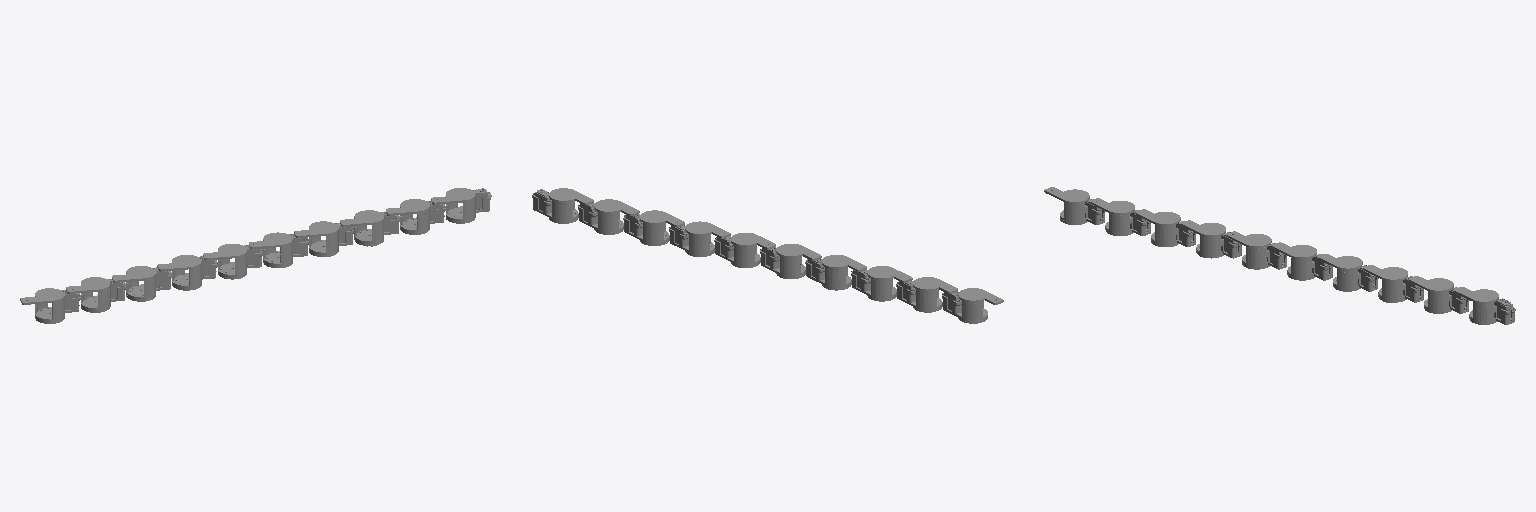
The robot description file, URDF, robot "cobraplacalateral":
<?xml version="1.0" encoding="utf-8"?>
<!-- This URDF was automatically created by SolidWorks to URDF Exporter! Originally created by [author] ([email redacted]) 
     Commit Version: 1.6.0-4-g7f85cfe  Build Version: 1.6.7995.38578
     For more information, please see http://wiki.ros.org/sw_urdf_exporter -->
<!-- 
  Modificações foram feitas nessa descrição a fim de simular o robô no ambiente de simulação Gazebo
  Autor: [author]
  email: [email redacted]
-->
<robot
  name="cobraplacalateral">
  <gazebo>
    <plugin name="gazebo_ros_control" filename="libgazebo_ros_control.so">
      <robotNamespace>/cobraplacalateral</robotNamespace>
    </plugin>
  </gazebo>
  <link name = "dummy"/>
  <link
    name="modulo1">
    <inertial>
      <origin
        xyz="-0.19548 -0.0079371 -0.092787"
        rpy="0 0 0" />
      <mass
        value="0.062449" />
      <inertia
        ixx="4.2331E-05"
        ixy="8.2349E-07"
        ixz="-3.8461E-06"
        iyy="9.0357E-05"
        iyz="-9.8697E-08"
        izz="7.2959E-05" />
    </inertial>
    <visual>
      <origin
        xyz="0 0 0"
        rpy="0 0 0" />
      <geometry>
        <mesh
          filename="package://cobraplacalateral/meshes/base_link.STL" />
      </geometry>
      <material
        name="">
        <color
          rgba="0.62745 0.62745 0.62745 1" />
      </material>
    </visual>
    <collision>
      <origin
        xyz="0 0 0"
        rpy="0 0 0" />
      <geometry>
        <mesh
          filename="package://cobraplacalateral/meshes/base_link.STL" />
      </geometry>
    </collision>
  </link>
  <gazebo reference="modulo1">
    <mu1>0.1</mu1>
    <mu2>0.1</mu2>
   
  </gazebo>
  <joint name = "dummy_joint" type = "fixed">
    <parent link="dummy"/>
    <child link="modulo1"/>
  </joint>
  <link
    name="modulo2">
    <inertial>
      <origin
        xyz="0.073686 -0.029721 -0.0008313"
        rpy="0 0 0" />
      <mass
        value="0.062449" />
      <inertia
        ixx="4.2331E-05"
        ixy="8.2349E-07"
        ixz="-3.8461E-06"
        iyy="9.0357E-05"
        iyz="-9.8697E-08"
        izz="7.2959E-05" />
    </inertial>
    <visual>
      <origin
        xyz="0 0 0"
        rpy="0 0 0" />
      <geometry>
        <mesh
          filename="package://cobraplacalateral/meshes/modulo2.STL" />
      </geometry>
      <material
        name="">
        <color
          rgba="0.62745 0.62745 0.62745 1" />
      </material>
    </visual>
    <collision>
      <origin
        xyz="0 0 0"
        rpy="0 0 0" />
      <geometry>
        <mesh
          filename="package://cobraplacalateral/meshes/modulo2.STL" />
      </geometry>
    </collision>
  </link>
  <gazebo reference="modulo2">
    <mu1>0.1</mu1>
    <mu2>0.1</mu2>
   
  </gazebo>
  <joint
    name="joint1"
    type="revolute">
    <origin
      xyz="-0.15473 0.091996 0.021784"
      rpy="1.5708 0 0" />
    <parent
      link="modulo1" />
    <child
      link="modulo2" />
    <axis
      xyz="0 1 0" />
    <limit
      lower="-2.0"
      upper="2.0"
      effort="10.0"
      velocity="0.5" />
    <physics>
      <ode cfm_damping = "true">
        <limit cfm = "1.0"/>
        <suspension cfm="1.0"/>
      </ode>
    </physics>
  </joint>
  <transmission name="trans1">
    <type>transmission_interface/SimpleTransmission</type>
    <joint name="joint1">
      <hardwareInterface>hardware_interface/EffortJointInterface</hardwareInterface>
    </joint>
    <actuator name="motor1">
      <hardwareInterface>hardware_interface/EffortJointInterface</hardwareInterface>
      <mechanicalReduction>1</mechanicalReduction>
    </actuator>
  </transmission>
  <link
    name="modulo3">
    <inertial>
      <origin
        xyz="0.073686 -0.029721 -0.0008313"
        rpy="0 0 0" />
      <mass
        value="0.062449" />
      <inertia
        ixx="4.2331E-05"
        ixy="8.2349E-07"
        ixz="-3.8461E-06"
        iyy="9.0357E-05"
        iyz="-9.8697E-08"
        izz="7.2959E-05" />
    </inertial>
    <visual>
      <origin
        xyz="0 0 0"
        rpy="0 0 0" />
      <geometry>
        <mesh
          filename="package://cobraplacalateral/meshes/modulo3.STL" />
      </geometry>
      <material
        name="">
        <color
          rgba="0.62745 0.62745 0.62745 1" />
      </material>
    </visual>
    <collision>
      <origin
        xyz="0 0 0"
        rpy="0 0 0" />
      <geometry>
        <mesh
          filename="package://cobraplacalateral/meshes/modulo3.STL" />
      </geometry>
    </collision>
  </link>
  <gazebo reference="modulo3">
    <mu1>0.1</mu1>
    <mu2>0.1</mu2>
   
  </gazebo>
  <joint
    name="joint2"
    type="revolute">
    <origin
      xyz="0.11444 0 -4.0212E-05"
      rpy="0 0 0" />
    <parent
      link="modulo2" />
    <child
      link="modulo3" />
    <axis
      xyz="0 1 0" />
    <limit
      lower="-2.0"
      upper="2.0"
      effort="100000000000.0"
      velocity="6.28" />
    <physics>
      <ode cfm_damping = "true">
        <limit cfm = "1.0"/>
        <suspension cfm="1.0"/>
      </ode>
    </physics>
  </joint>
  <transmission name="trans2">
    <type>transmission_interface/SimpleTransmission</type>
    <joint name="joint2">
      <hardwareInterface>hardware_interface/EffortJointInterface</hardwareInterface>
    </joint>
    <actuator name="motor2">
      <hardwareInterface>hardware_interface/EffortJointInterface</hardwareInterface>
      <mechanicalReduction>1</mechanicalReduction>
    </actuator>
  </transmission>
  <link
    name="modulo4">
    <inertial>
      <origin
        xyz="0.0736864302969557 -0.0297211972454861 -0.000831298567806088"
        rpy="0 0 0" />
      <mass
        value="0.0624486089384005" />
      <inertia
        ixx="4.23306741017875E-05"
        ixy="8.23488383173284E-07"
        ixz="-3.84610240874935E-06"
        iyy="9.03567329613313E-05"
        iyz="-9.86970187562682E-08"
        izz="7.29593550442413E-05" />
    </inertial>
    <visual>
      <origin
        xyz="0 0 0"
        rpy="0 0 0" />
      <geometry>
        <mesh
          filename="package://cobraplacalateral/meshes/modulo4.STL" />
      </geometry>
      <material
        name="">
        <color
          rgba="0.627450980392157 0.627450980392157 0.627450980392157 1" />
      </material>
    </visual>
    <collision>
      <origin
        xyz="0 0 0"
        rpy="0 0 0" />
      <geometry>
        <mesh
          filename="package://cobraplacalateral/meshes/modulo4.STL" />
      </geometry>
    </collision>
  </link>
  <gazebo reference="modulo4">
    <mu1>0.1</mu1>
    <mu2>0.1</mu2>
   
  </gazebo>
  <joint
    name="joint3"
    type="revolute">
    <origin
      xyz="0.11444 0 -4.0212E-05"
      rpy="0 0 0" />
    <parent
      link="modulo3" />
    <child
      link="modulo4" />
    <axis
      xyz="0 1 0" />
    <limit
      lower="-2.0"
      upper="2.0"
      effort="100000000000.0"
      velocity="6.28" />
    <physics>
      <ode cfm_damping = "true">
        <limit cfm = "1.0"/>
        <suspension cfm="1.0"/>
      </ode>
    </physics>
  </joint>
  <transmission name="trans3">
    <type>transmission_interface/SimpleTransmission</type>
    <joint name="joint3">
      <hardwareInterface>hardware_interface/EffortJointInterface</hardwareInterface>
    </joint>
    <actuator name="motor3">
      <hardwareInterface>hardware_interface/EffortJointInterface</hardwareInterface>
      <mechanicalReduction>1</mechanicalReduction>
    </actuator>
  </transmission>
  <link
    name="modulo5">
    <inertial>
      <origin
        xyz="0.0736864302969558 -0.0297211972454855 -0.000831298567805991"
        rpy="0 0 0" />
      <mass
        value="0.0624486089384005" />
      <inertia
        ixx="4.23306741017875E-05"
        ixy="8.23488383173303E-07"
        ixz="-3.84610240874932E-06"
        iyy="9.03567329613312E-05"
        iyz="-9.86970187568371E-08"
        izz="7.2959355044241E-05" />
    </inertial>
    <visual>
      <origin
        xyz="0 0 0"
        rpy="0 0 0" />
      <geometry>
        <mesh
          filename="package://cobraplacalateral/meshes/modulo5.STL" />
      </geometry>
      <material
        name="">
        <color
          rgba="0.627450980392157 0.627450980392157 0.627450980392157 1" />
      </material>
    </visual>
    <collision>
      <origin
        xyz="0 0 0"
        rpy="0 0 0" />
      <geometry>
        <mesh
          filename="package://cobraplacalateral/meshes/modulo5.STL" />
      </geometry>
    </collision>
  </link>
  <gazebo reference="modulo5">
    <mu1>0.1</mu1>
    <mu2>0.1</mu2>
   
  </gazebo>
  <joint
    name="joint4"
    type="revolute">
    <origin
      xyz="0.11444 0 -4.0212E-05"
      rpy="0 0 0" />
    <parent
      link="modulo4" />
    <child
      link="modulo5" />
    <axis
      xyz="0 1 0" />
    <limit
      lower="-2.0"
      upper="2.0"
      effort="100000000000.0"
      velocity="6.28" />
    <physics>
      <ode cfm_damping = "true">
        <limit cfm = "1.0"/>
        <suspension cfm="1.0"/>
      </ode>
    </physics>
  </joint>
  <transmission name="trans4">
    <type>transmission_interface/SimpleTransmission</type>
    <joint name="joint4">
      <hardwareInterface>hardware_interface/EffortJointInterface</hardwareInterface>
    </joint>
    <actuator name="motor4">
      <hardwareInterface>hardware_interface/EffortJointInterface</hardwareInterface>
      <mechanicalReduction>1</mechanicalReduction>
    </actuator>
  </transmission>
  <link
    name="modulo6">
    <inertial>
      <origin
        xyz="0.073686 -0.029721 -0.0008313"
        rpy="0 0 0" />
      <mass
        value="0.062449" />
      <inertia
        ixx="4.2331E-05"
        ixy="8.2349E-07"
        ixz="-3.8461E-06"
        iyy="9.0357E-05"
        iyz="-9.8697E-08"
        izz="7.2959E-05" />
    </inertial>
    <visual>
      <origin
        xyz="0 0 0"
        rpy="0 0 0" />
      <geometry>
        <mesh
          filename="package://cobraplacalateral/meshes/modulo6.STL" />
      </geometry>
      <material
        name="">
        <color
          rgba="0.62745 0.62745 0.62745 1" />
      </material>
    </visual>
    <collision>
      <origin
        xyz="0 0 0"
        rpy="0 0 0" />
      <geometry>
        <mesh
          filename="package://cobraplacalateral/meshes/modulo6.STL" />
      </geometry>
    </collision>
  </link>
  <gazebo reference="modulo6">
    <mu1>0.1</mu1>
    <mu2>0.1</mu2>
   
  </gazebo>
  <joint
    name="joint5"
    type="revolute">
    <origin
      xyz="0.11444 0 -4.0212E-05"
      rpy="0 0 0" />
    <parent
      link="modulo5" />
    <child
      link="modulo6" />
    <axis
      xyz="0 1 0" />
    <limit
      lower="-2.0"
      upper="2.0"
      effort="100000000000.0"
      velocity="6.28" />
    <physics>
      <ode cfm_damping = "true">
        <limit cfm = "1.0"/>
        <suspension cfm="1.0"/>
      </ode>
    </physics>
  </joint>
  <transmission name="trans5">
    <type>transmission_interface/SimpleTransmission</type>
    <joint name="joint5">
      <hardwareInterface>hardware_interface/EffortJointInterface</hardwareInterface>
    </joint>
    <actuator name="motor5">
      <hardwareInterface>hardware_interface/EffortJointInterface</hardwareInterface>
      <mechanicalReduction>1</mechanicalReduction>
    </actuator>
  </transmission>
  <link
    name="modulo7">
    <inertial>
      <origin
        xyz="0.0736864303147165 -0.0297211972561647 -0.000831298559470214"
        rpy="0 0 0" />
      <mass
        value="0.0624486089464186" />
      <inertia
        ixx="4.23306741091947E-05"
        ixy="8.23488390584288E-07"
        ixz="-3.84610242802216E-06"
        iyy="9.03567330041933E-05"
        iyz="-9.86970132555384E-08"
        izz="7.29593550761642E-05" />
    </inertial>
    <visual>
      <origin
        xyz="0 0 0"
        rpy="0 0 0" />
      <geometry>
        <mesh
          filename="package://cobraplacalateral/meshes/modulo7.STL" />
      </geometry>
      <material
        name="">
        <color
          rgba="0.627450980392157 0.627450980392157 0.627450980392157 1" />
      </material>
    </visual>
    <collision>
      <origin
        xyz="0 0 0"
        rpy="0 0 0" />
      <geometry>
        <mesh
          filename="package://cobraplacalateral/meshes/modulo7.STL" />
      </geometry>
    </collision>
  </link>
  <gazebo reference="modulo7">
    <mu1>0.1</mu1>
    <mu2>0.1</mu2>
   
  </gazebo>
  <joint
    name="joint6"
    type="revolute">
    <origin
      xyz="0.11444 0 -4.0212E-05"
      rpy="0 0 0" />
    <parent
      link="modulo6" />
    <child
      link="modulo7" />
    <axis
      xyz="0 1 0" />
    <limit
      lower="-2.0"
      upper="2.0"
      effort="100000000000.0"
      velocity="6.28" />
    <physics>
      <ode cfm_damping = "true">
        <limit cfm = "1.0"/>
        <suspension cfm="1.0"/>
      </ode>
    </physics>
  </joint>
  <transmission name="trans6">
    <type>transmission_interface/SimpleTransmission</type>
    <joint name="joint6">
      <hardwareInterface>hardware_interface/EffortJointInterface</hardwareInterface>
    </joint>
    <actuator name="motor6">
      <hardwareInterface>hardware_interface/EffortJointInterface</hardwareInterface>
      <mechanicalReduction>1</mechanicalReduction>
    </actuator>
  </transmission>
  <link
    name="modulo8">
    <inertial>
      <origin
        xyz="0.073686430296956 -0.0297211972454852 -0.000831298567805852"
        rpy="0 0 0" />
      <mass
        value="0.0624486089384004" />
      <inertia
        ixx="4.23306741017869E-05"
        ixy="8.23488383172666E-07"
        ixz="-3.84610240874893E-06"
        iyy="9.03567329613307E-05"
        iyz="-9.86970187562574E-08"
        izz="7.29593550442411E-05" />
    </inertial>
    <visual>
      <origin
        xyz="0 0 0"
        rpy="0 0 0" />
      <geometry>
        <mesh
          filename="package://cobraplacalateral/meshes/modulo8.STL" />
      </geometry>
      <material
        name="">
        <color
          rgba="0.627450980392157 0.627450980392157 0.627450980392157 1" />
      </material>
    </visual>
    <collision>
      <origin
        xyz="0 0 0"
        rpy="0 0 0" />
      <geometry>
        <mesh
          filename="package://cobraplacalateral/meshes/modulo8.STL" />
      </geometry>
    </collision>
  </link>
  <gazebo reference="modulo8">
    <mu1>0.1</mu1>
    <mu2>0.1</mu2>
   
  </gazebo>
  <joint
    name="joint7"
    type="revolute">
    <origin
      xyz="0.11444 0 -4.0212E-05"
      rpy="0 0 0" />
    <parent
      link="modulo7" />
    <child
      link="modulo8" />
    <axis
      xyz="0 1 0" />
    <limit
      lower="-2.0"
      upper="2.0"
      effort="100000000000.0"
      velocity="6.28" />
    <physics>
      <ode cfm_damping = "true">
        <limit cfm = "1.0"/>
        <suspension cfm="1.0"/>
      </ode>
    </physics>
  </joint>
  <transmission name="trans7">
    <type>transmission_interface/SimpleTransmission</type>
    <joint name="joint7">
      <hardwareInterface>hardware_interface/EffortJointInterface</hardwareInterface>
    </joint>
    <actuator name="motor7">
      <hardwareInterface>hardware_interface/EffortJointInterface</hardwareInterface>
      <mechanicalReduction>1</mechanicalReduction>
    </actuator>
  </transmission>
  <link
    name="modulo9">
    <inertial>
      <origin
        xyz="0.073686 -0.029721 -0.0008313"
        rpy="0 0 0" />
      <mass
        value="0.062449" />
      <inertia
        ixx="4.2331E-05"
        ixy="8.2349E-07"
        ixz="-3.8461E-06"
        iyy="9.0357E-05"
        iyz="-9.8697E-08"
        izz="7.2959E-05" />
    </inertial>
    <visual>
      <origin
        xyz="0 0 0"
        rpy="0 0 0" />
      <geometry>
        <mesh
          filename="package://cobraplacalateral/meshes/modulo9.STL" />
      </geometry>
      <material
        name="">
        <color
          rgba="0.62745 0.62745 0.62745 1" />
      </material>
    </visual>
    <collision>
      <origin
        xyz="0 0 0"
        rpy="0 0 0" />
      <geometry>
        <mesh
          filename="package://cobraplacalateral/meshes/modulo9.STL" />
      </geometry>
    </collision>
  </link>
  <gazebo reference="modulo9">
    <mu1>0.1</mu1>
    <mu2>0.1</mu2>
   
  </gazebo>
  <joint
    name="joint8"
    type="revolute">
    <origin
      xyz="0.11444 0 -4.0212E-05"
      rpy="0 0 0" />
    <parent
      link="modulo8" />
    <child
      link="modulo9" />
    <axis
      xyz="0 1 0" />
    <limit
      lower="-2.0"
      upper="2.0"
      effort="100000000000.0"
      velocity="6.28" />
    <physics>
      <ode cfm_damping = "true">
        <limit cfm = "1.0"/>
        <suspension cfm="1.0"/>
      </ode>
    </physics>
  </joint>
  <transmission name="trans8">
    <type>transmission_interface/SimpleTransmission</type>
    <joint name="joint8">
      <hardwareInterface>hardware_interface/EffortJointInterface</hardwareInterface>
    </joint>
    <actuator name="motor8">
      <hardwareInterface>hardware_interface/EffortJointInterface</hardwareInterface>
      <mechanicalReduction>1</mechanicalReduction>
    </actuator>
  </transmission>
  <link
    name="modulo10">
    <inertial>
      <origin
        xyz="0.073686 -0.029721 -0.0008313"
        rpy="0 0 0" />
      <mass
        value="0.062449" />
      <inertia
        ixx="4.2331E-05"
        ixy="8.2349E-07"
        ixz="-3.8461E-06"
        iyy="9.0357E-05"
        iyz="-9.8697E-08"
        izz="7.2959E-05" />
    </inertial>
    <visual>
      <origin
        xyz="0 0 0"
        rpy="0 0 0" />
      <geometry>
        <mesh
          filename="package://cobraplacalateral/meshes/modulo10.STL" />
      </geometry>
      <material
        name="">
        <color
          rgba="0.62745 0.62745 0.62745 1" />
      </material>
    </visual>
    <collision>
      <origin
        xyz="0 0 0"
        rpy="0 0 0" />
      <geometry>
        <mesh
          filename="package://cobraplacalateral/meshes/modulo10.STL" />
      </geometry>
    </collision>
  </link>
  <gazebo reference="modulo10">
    <mu1>0.1</mu1>
    <mu2>0.1</mu2>
   
  </gazebo>
  <joint
    name="joint9"
    type="revolute">
    <origin
      xyz="0.11444 0 -4.0212E-05"
      rpy="0 0 0" />
    <parent
      link="modulo9" />
    <child
      link="modulo10" />
    <axis
      xyz="0 1 0" />
    <limit
      lower="-2.0"
      upper="2.0"
      effort="100000000000.0"
      velocity="6.28" />
    <physics>
      <ode cfm_damping = "true">
        <limit cfm = "1.0"/>
        <suspension cfm="1.0"/>
      </ode>
    </physics>
  </joint>
  <transmission name="trans9">
    <type>transmission_interface/SimpleTransmission</type>
    <joint name="joint9">
      <hardwareInterface>hardware_interface/EffortJointInterface</hardwareInterface>
    </joint>
    <actuator name="motor9">
      <hardwareInterface>hardware_interface/EffortJointInterface</hardwareInterface>
      <mechanicalReduction>1</mechanicalReduction>
    </actuator>
  </transmission>
</robot>

--- Facts derived from the render (not from the file) ---
Views: 3 orthographic renders of the robot side by side, from view 1: azimuth 30°, elevation 25°; view 2: azimuth 150°, elevation 25°; view 3: azimuth 330°, elevation 25°.
Model cobraplacalateral with 11 links and 10 joints (9 revolute, 1 fixed), rooted at dummy, posed all joints at 0.
Links seen in each view (by area): view 1: modulo10, modulo3, modulo4, modulo6, modulo8, modulo9, modulo1, modulo7, modulo2, modulo5; view 2: modulo10, modulo2, modulo8, modulo6, modulo4, modulo1, modulo9, modulo3, modulo5, modulo7; view 3: modulo10, modulo6, modulo7, modulo8, modulo4, modulo9, modulo1, modulo3, modulo5, modulo2.
Link boxes in pixels (box(x1,y1,x2,y2)): modulo10: box(431, 188, 491, 223); modulo3: box(112, 266, 171, 301); modulo4: box(157, 255, 217, 290); modulo6: box(249, 232, 308, 267); modulo8: box(340, 210, 399, 246); modulo9: box(386, 199, 445, 234); modulo1: box(20, 288, 80, 323); modulo7: box(294, 221, 354, 256); modulo2: box(66, 277, 125, 312); modulo5: box(203, 244, 262, 279); modulo10: box(532, 188, 593, 223); modulo2: box(896, 277, 957, 312); modulo8: box(623, 210, 684, 245); modulo6: box(714, 233, 775, 267); modulo4: box(805, 255, 866, 290); modulo1: box(942, 288, 1003, 323); modulo9: box(578, 199, 639, 234); modulo3: box(851, 266, 912, 301); modulo5: box(760, 244, 821, 278); modulo7: box(669, 221, 730, 256); modulo10: box(1454, 287, 1515, 324); modulo6: box(1272, 242, 1332, 280); modulo7: box(1317, 254, 1378, 291); modulo8: box(1363, 265, 1423, 302); modulo4: box(1181, 220, 1241, 258); modulo9: box(1408, 276, 1469, 313); modulo1: box(1044, 187, 1105, 224); modulo3: box(1135, 209, 1196, 246); modulo5: box(1226, 231, 1286, 269); modulo2: box(1090, 198, 1150, 235).
Bounding box of the posed robot: 1.18 × 0.0653 × 0.0589 m (x, y, z).
10 mesh visuals loaded from 10 distinct referenced files (10 binary STL).
